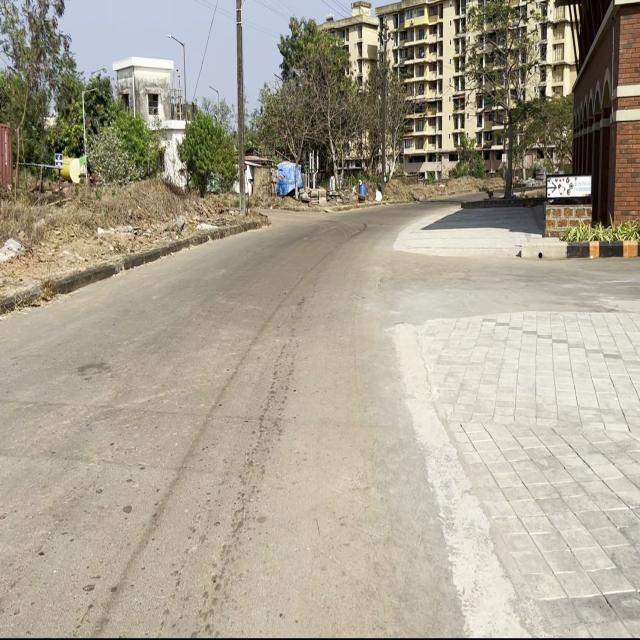Road: (0, 205, 468, 638)
